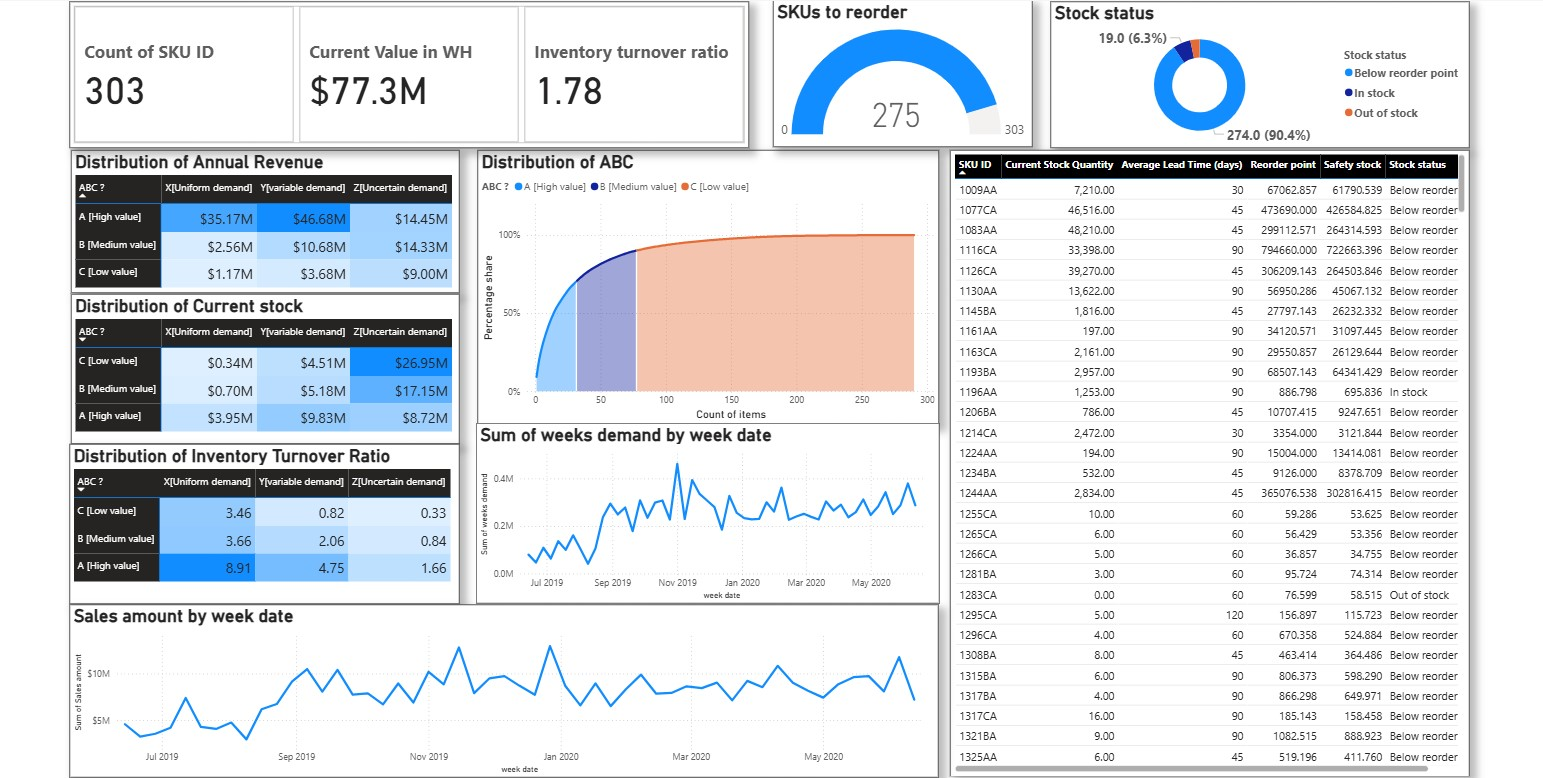

This screenshot's page, from the dashboard's own definition file:
{"tool":"powerbi","page":{"name":"Supply Chain dashboard","canvas":[1920,1080],"ordinal":0},"visuals":[{"type":"areaChart","title":"Distribution of ABC","fields":{"Category":["Stock.ABC Rank"],"Y":["Avg(Stock.Cumulative share)"],"Series":["Stock.ABC ?"]},"box":[565.6,209,615.5,365.7],"z":1000},{"type":"pivotTable","title":"Distribution of Annual Revenue","fields":{"Rows":["Stock.ABC ?"],"Columns":["Stock.XYZ?"],"Values":["Sum(Stock.Annual Revenue)"]},"box":[25,209,517.9,190.8],"z":2000},{"type":"pivotTable","title":"Distribution of Current stock","fields":{"Rows":["Stock.ABC ?"],"Columns":["Stock.XYZ?"],"Values":["Sum(Stock.Value in WH)"]},"box":[25,399.8,517.9,199.9],"z":3000},{"type":"gauge","title":"SKUs to reorder ","fields":{"Y":["Stock.SKUs to reorder"],"MaxValue":["CountNonNull(Stock.SKU ID)"]},"box":[960,8,346,196],"z":4000},{"type":"donutChart","title":"Stock status","fields":{"Category":["Stock.Stock status"],"Y":["CountNonNull(Stock.SKU ID)"]},"box":[1331,9.1,558.7,195.3],"z":5000},{"type":"pivotTable","title":"Distribution of Inventory Turnover Ratio","fields":{"Rows":["Stock.ABC ?"],"Columns":["Stock.XYZ?"],"Values":["Stock.Inventory turnover ratio"]},"box":[22.7,599.6,520.1,213.5],"z":6000},{"type":"tableEx","fields":{"Values":["Stock.SKU ID","Stock.Current Stock Quantity","Stock.Average Lead Time (days)","Stock.Reorder point","Stock.Safety stock","Stock.Stock status"]},"box":[1197,209,692.7,835.8],"z":7000},{"type":"lineChart","title":"Sales amount by week date","fields":{"Category":["weekly demand sheet.week date"],"Y":["Sum(weekly demand sheet.Sales amount)"]},"box":[22.7,813.1,1158.4,231.7],"z":8000},{"type":"lineChart","fields":{"Category":["weekly demand sheet.week date"],"Y":["Sum(weekly demand sheet.weeks demand)"]},"box":[563.3,572.4,617.8,240.8],"z":9000},{"type":"cardVisual","fields":{"Data":["CountNonNull(Stock.SKU ID)","Sum(Stock.Value in WH)","Stock.Inventory turnover ratio"]},"box":[22.7,9.1,906.3,195.3],"z":10000}]}

Visuals, with their boxes in screenshot pixels (x1, y1, x2, y2):
"Distribution of ABC" areaChart: x1=478, y1=150, x2=932, y2=420
"Distribution of Annual Revenue" pivotTable: x1=79, y1=150, x2=461, y2=291
"Distribution of Current stock" pivotTable: x1=79, y1=291, x2=461, y2=439
"SKUs to reorder " gauge: x1=769, y1=2, x2=1024, y2=147
"Stock status" donutChart: x1=1043, y1=3, x2=1455, y2=147
"Distribution of Inventory Turnover Ratio" pivotTable: x1=77, y1=438, x2=461, y2=596
tableEx - Stock.SKU ID x Stock.Current Stock Quantity: x1=944, y1=150, x2=1455, y2=767
"Sales amount by week date" lineChart: x1=77, y1=596, x2=932, y2=767
lineChart - weekly demand sheet.week date x Sum(weekly demand sheet.weeks demand): x1=476, y1=418, x2=932, y2=596
cardVisual - CountNonNull(Stock.SKU ID) x Sum(Stock.Value in WH): x1=77, y1=3, x2=746, y2=147
